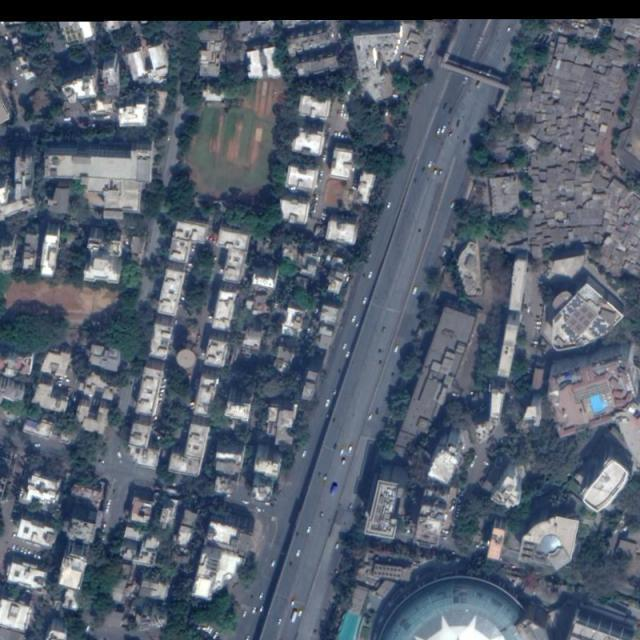vehicle: (330, 482, 338, 495), (290, 610, 297, 623), (258, 591, 266, 601), (350, 315, 358, 324), (367, 270, 374, 280), (251, 606, 258, 615), (475, 80, 482, 89), (375, 406, 382, 415), (306, 526, 313, 534), (298, 610, 305, 618), (427, 161, 434, 169), (276, 618, 283, 626), (362, 297, 368, 306), (412, 287, 418, 296), (436, 127, 442, 136), (242, 610, 248, 618), (302, 450, 308, 458), (342, 342, 348, 350), (291, 599, 296, 608), (442, 125, 447, 134), (259, 606, 265, 613), (296, 550, 302, 557), (271, 559, 277, 566), (326, 399, 331, 407), (348, 446, 353, 454), (386, 201, 391, 209), (450, 201, 455, 209), (462, 76, 467, 84), (433, 167, 438, 175), (341, 458, 346, 466), (245, 634, 251, 640), (340, 449, 345, 456), (368, 414, 373, 421), (394, 346, 398, 354), (346, 351, 350, 358), (335, 542, 339, 549)
